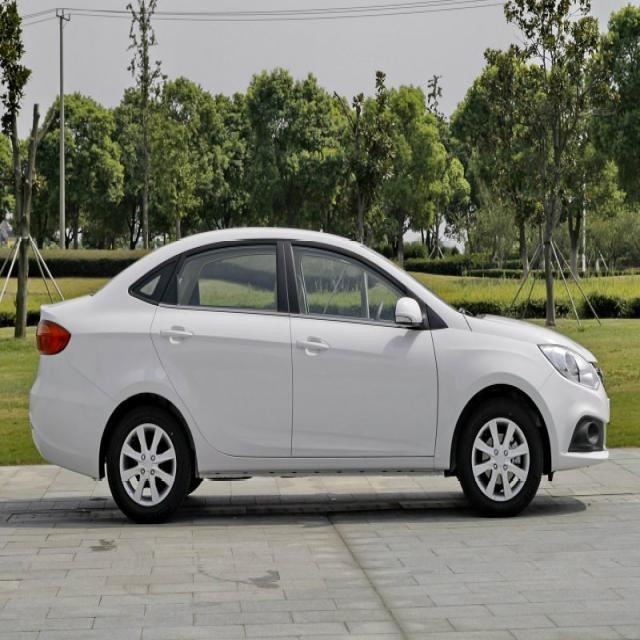back_right_side_light: (34, 313, 73, 359)
door: (148, 238, 295, 469)
front_bumper: (532, 370, 611, 473)
front_right_side_door: (282, 233, 440, 460)
front_right_side_light: (538, 342, 600, 390)
front_right_side_mirror: (394, 296, 424, 330)
rear_bumper: (30, 356, 116, 481)
wheel: (106, 402, 192, 521), (462, 399, 544, 516)
